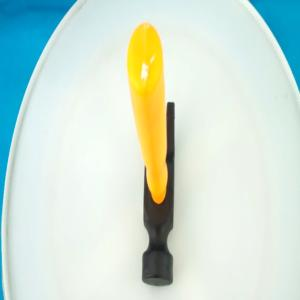martelo: (126, 22, 176, 288)
